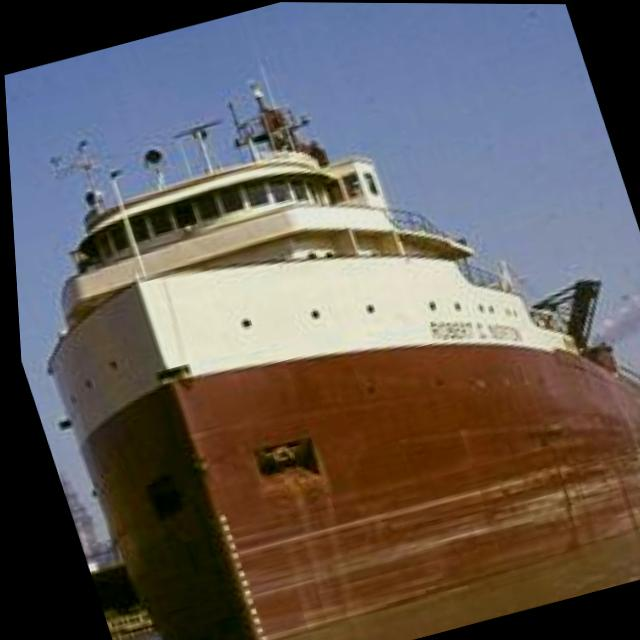ship2: (42, 82, 640, 640)
